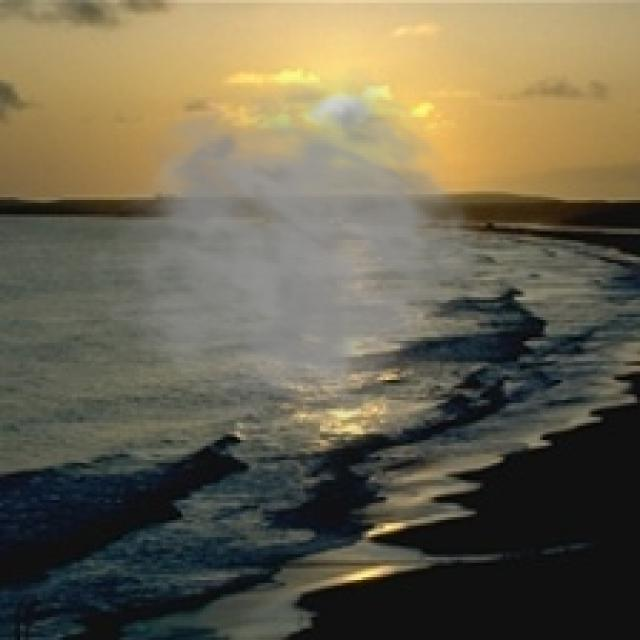smoke: (83, 66, 480, 440)
